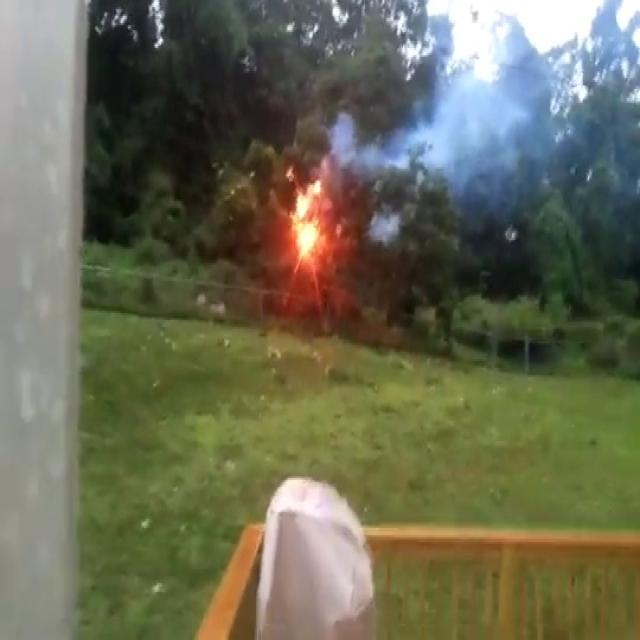Fire: (285, 174, 331, 265)
Smoke: (380, 0, 640, 190)
